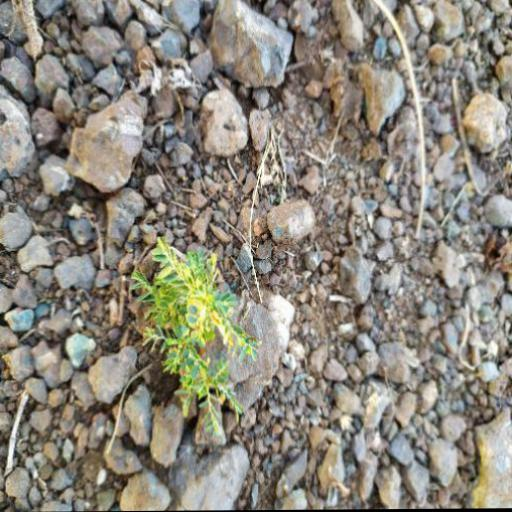weed: (114, 235, 278, 439)
